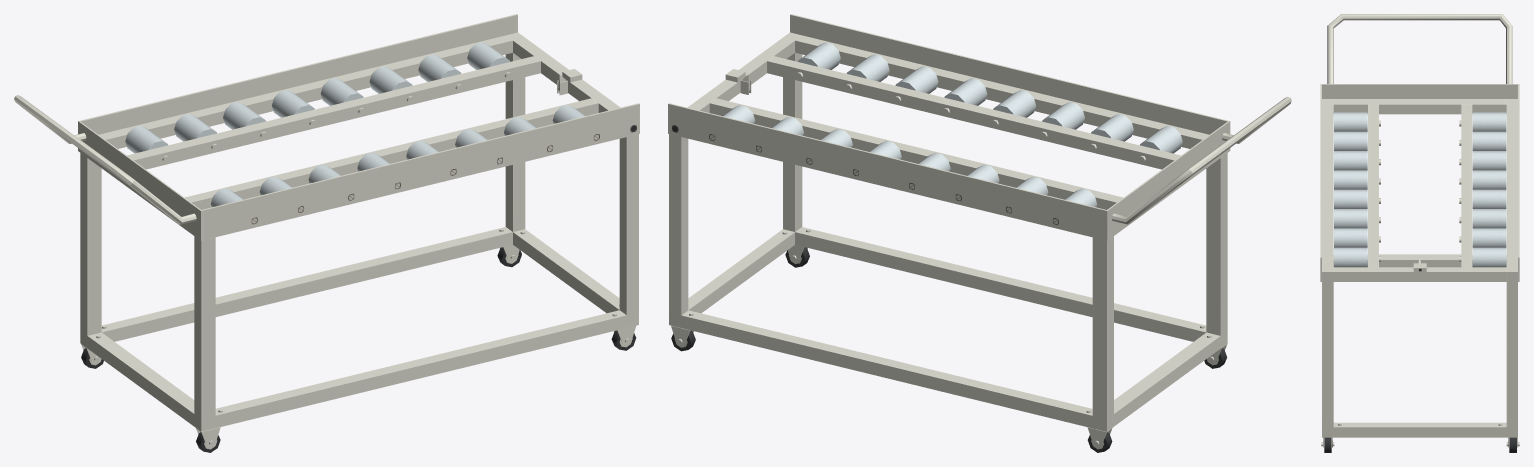
The model's file is xiaotui02.FBX.
3 views of the same model, side by side, from view 1: azimuth 30°, elevation 25°; view 2: azimuth 150°, elevation 25°; view 3: azimuth 270°, elevation 25° (orthographic). The views are drawn at different scales.
Visible parts, largest first — view 1: YF_Model_xiaotui02; view 2: YF_Model_xiaotui02; view 3: YF_Model_xiaotui02.
Boxes of the visible parts, x1,y1,x2,y2 form: YF_Model_xiaotui02: [14, 14, 639, 452]; YF_Model_xiaotui02: [668, 14, 1291, 452]; YF_Model_xiaotui02: [1320, 14, 1519, 452].
Bounding box in the file's own units: 128 × 70.6 × 52.92.
Materials: 1 (1 with a texture image).
